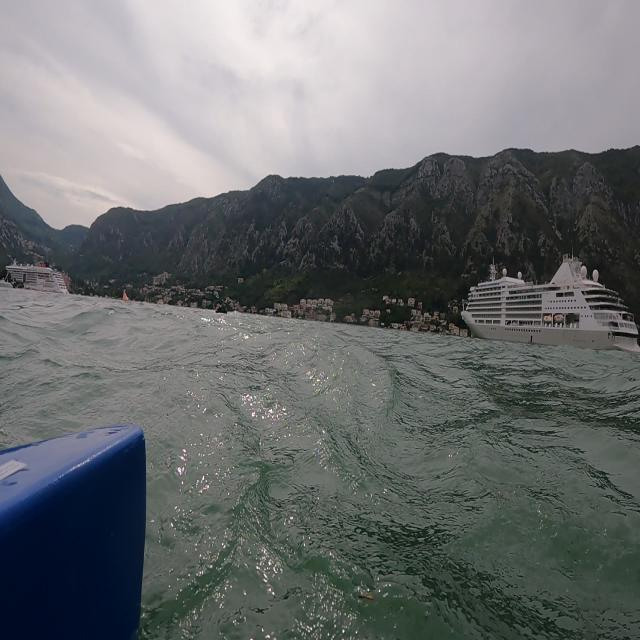boat: (459, 247, 638, 355), (0, 257, 78, 312)
